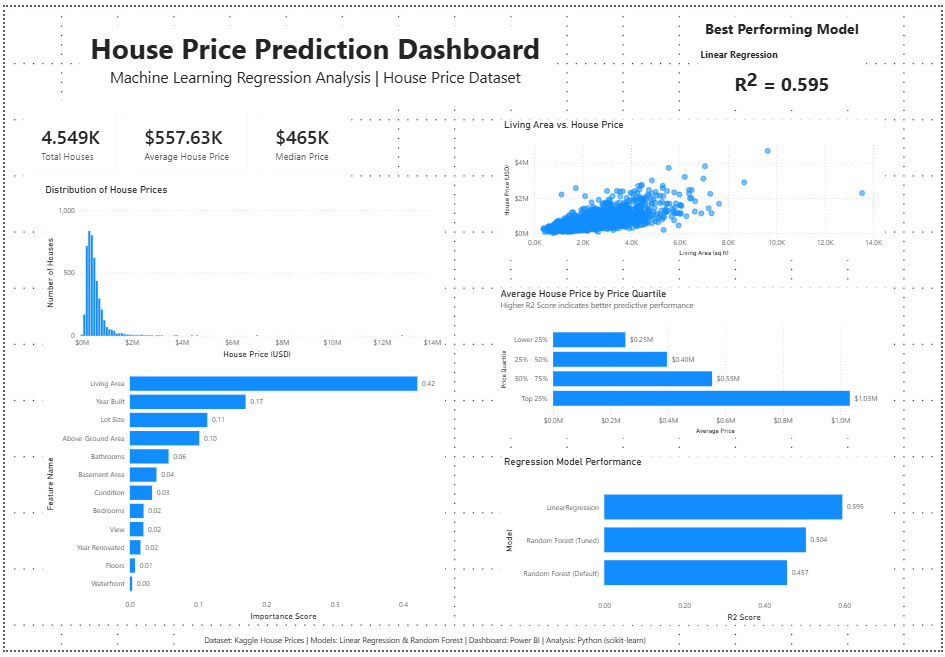

This screenshot's page, from the dashboard's own definition file:
{"tool":"powerbi","page":{"name":"Page 1","canvas":[1600,1100],"ordinal":0},"visuals":[{"type":"textbox","box":[128,32,804.5,130.9],"z":0},{"type":"cardVisual","fields":{"Data":["CountNonNull(cleaned_house_prices.price)"]},"box":[32,160,176,144],"z":1000},{"type":"cardVisual","fields":{"Data":["Avg(cleaned_house_prices.price)"]},"box":[208,160,224,144],"z":2000},{"type":"cardVisual","fields":{"Data":["Median(cleaned_house_prices.price)"]},"box":[432,160,160,144],"z":3000},{"type":"textbox","title":"Best Model","box":[1184,16,288,160],"z":4000},{"type":"clusteredColumnChart","title":"Distribution of House Prices","fields":{"Category":["cleaned_house_prices.price (bins)"],"Y":["CountNonNull(cleaned_house_prices.price)"]},"box":[64.5,302.3,688,304],"z":5000},{"type":"clusteredBarChart","title":"Average House Price  by Price Quartile","fields":{"Category":["cleaned_house_prices.price_category"],"Y":["cleaned_house_prices.Average Price"]},"box":[842.1,480,672,256],"z":6000},{"type":"scatterChart","title":"Living Area vs. House Price","fields":{"X":["Sum(cleaned_house_prices.sqft_living)"],"Y":["Sum(cleaned_house_prices.price)"],"Category":["cleaned_house_prices.street"]},"box":[848,192,656,240],"z":7000},{"type":"clusteredBarChart","title":"Regression Model Performance","fields":{"Category":["model_metrics.Model"],"Y":["Sum(model_metrics.R2 Score)"]},"box":[848,768,672,288],"z":8000},{"type":"clusteredBarChart","title":"Importance Score","fields":{"Category":["feature_importance.Feature Name"],"Y":["Sum(feature_importance.Importance)"]},"box":[64.5,606.3,688,448],"z":9000},{"type":"textbox","box":[336,1068,784,32],"z":10000}]}

Visuals, with their boxes in screenshot pixels (x1, y1, x2, y2), scaled from the page's 1600x1100 canvas onto the 945x657 screenshot:
textbox: rect(76, 19, 551, 97)
cardVisual - CountNonNull(cleaned_house_prices.price): rect(19, 96, 123, 182)
cardVisual - Avg(cleaned_house_prices.price): rect(123, 96, 255, 182)
cardVisual - Median(cleaned_house_prices.price): rect(255, 96, 350, 182)
"Best Model" textbox: rect(699, 10, 869, 105)
"Distribution of House Prices" clusteredColumnChart: rect(38, 181, 444, 362)
"Average House Price  by Price Quartile" clusteredBarChart: rect(497, 287, 894, 440)
"Living Area vs. House Price" scatterChart: rect(501, 115, 888, 258)
"Regression Model Performance" clusteredBarChart: rect(501, 459, 898, 631)
"Importance Score" clusteredBarChart: rect(38, 362, 444, 630)
textbox: rect(198, 638, 662, 656)
